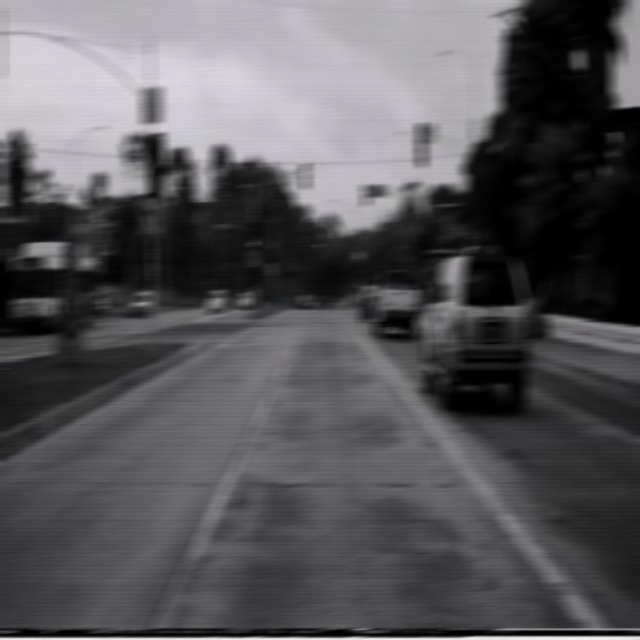noLeftTurn: (142, 194, 163, 234)
